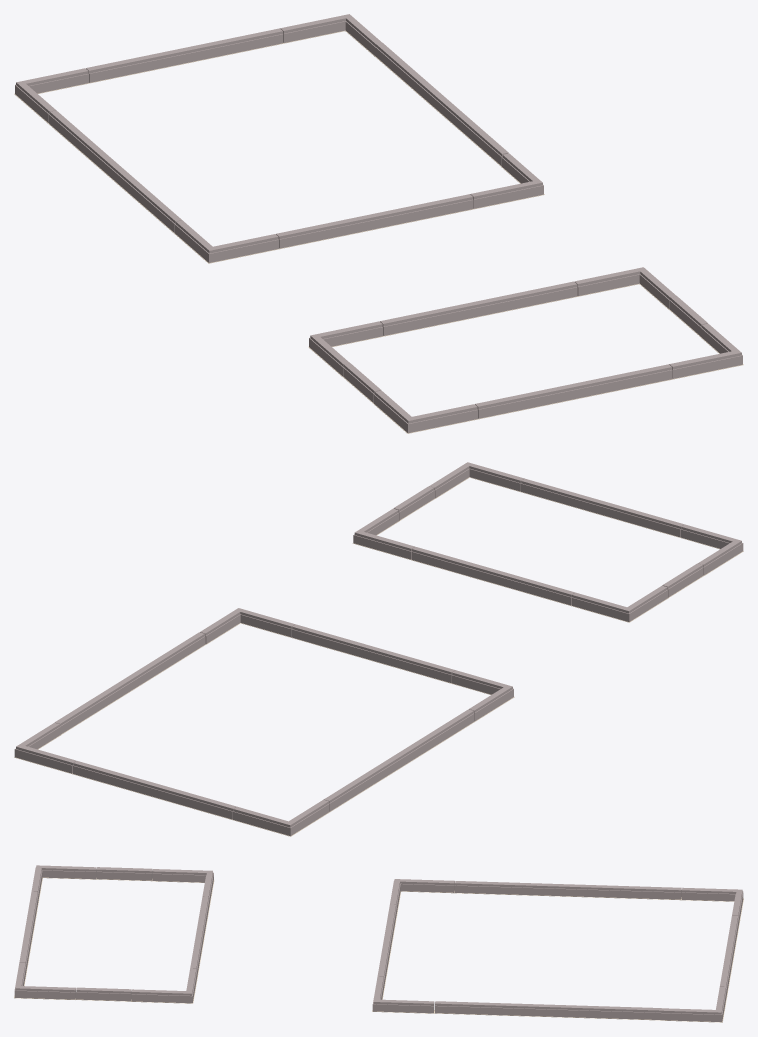
Rendered from Room4015Zone1.fbx.
3 renders of one model, top to bottom at view 1: azimuth 30°, elevation 25°; view 2: azimuth 150°, elevation 25°; view 3: azimuth 270°, elevation 25°, orthographic. The views are drawn at different scales.
Parts seen in each view (by area): view 1: Room4.015Zone1; view 2: Room4.015Zone1; view 3: Room4.015Zone1.
Boxes of the visible parts, x1,y1,x2,y2 form: Room4.015Zone1: [14, 14, 743, 433]; Room4.015Zone1: [14, 462, 743, 836]; Room4.015Zone1: [14, 865, 743, 1022].
Size of the model in its own units: 3.38 by 0.1325 by 7.15.
